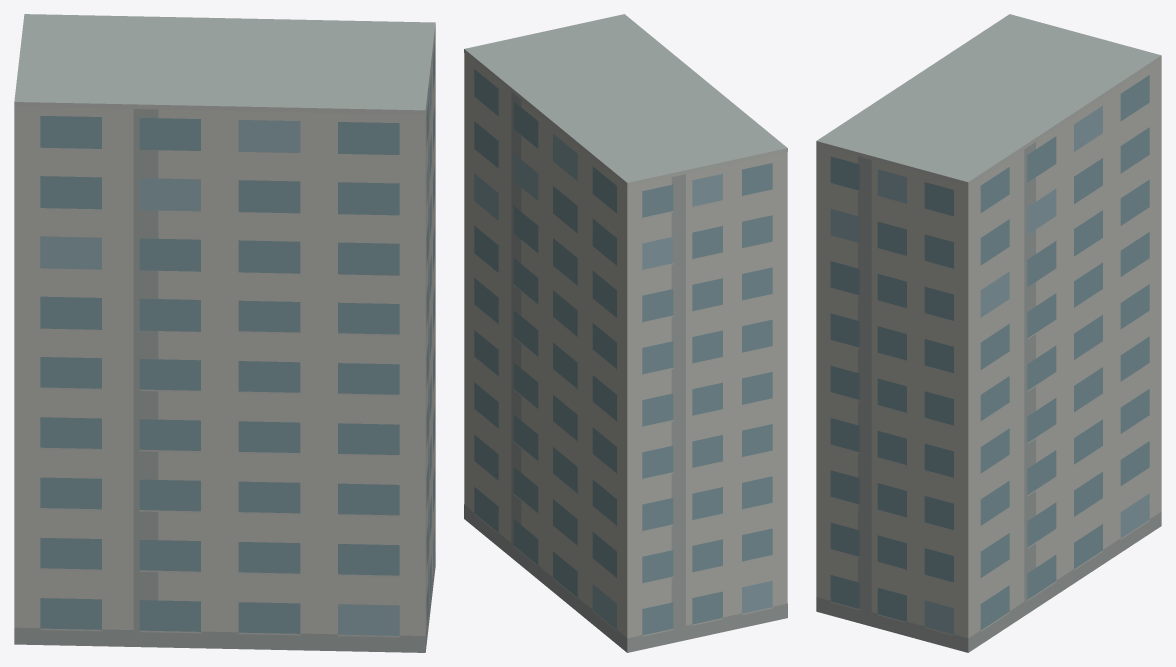
File: residential-60eae777-7ee9-4fd3-a1a2-6ada420146fe.glb
The picture shows the model from 3 angles, left to right: view 1: azimuth 30°, elevation 25°; view 2: azimuth 150°, elevation 25°; view 3: azimuth 270°, elevation 25°; orthographic projection. The views are drawn at different scales.
Parts seen in each view (by area): view 1: residential-60eae777-7ee9-4fd3-a1a2-6ada420146fe.tmp; view 2: residential-60eae777-7ee9-4fd3-a1a2-6ada420146fe.tmp; view 3: residential-60eae777-7ee9-4fd3-a1a2-6ada420146fe.tmp.
Part boxes in pixels (x1,y1,x2,y2): residential-60eae777-7ee9-4fd3-a1a2-6ada420146fe.tmp: (14,14,435,652); residential-60eae777-7ee9-4fd3-a1a2-6ada420146fe.tmp: (464,14,787,652); residential-60eae777-7ee9-4fd3-a1a2-6ada420146fe.tmp: (816,14,1161,652).
Size of the model in its own units: 22.24 by 29 by 19.29.
